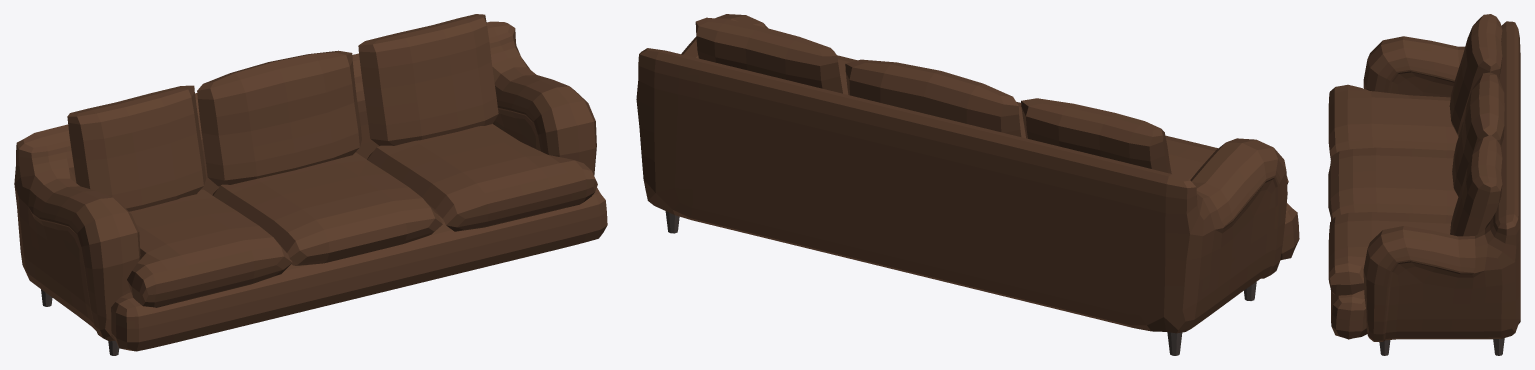
The model's file is Sofa2.glb.
3 renders of one model, left to right at view 1: azimuth 30°, elevation 25°; view 2: azimuth 150°, elevation 25°; view 3: azimuth 270°, elevation 25°, orthographic. The views are drawn at different scales.
Parts seen in each view (by area): view 1: Sofa2; view 2: Sofa2; view 3: Sofa2.
Boxes of the visible parts, <box> form: Sofa2: <box>14,14,607,355</box>; Sofa2: <box>636,14,1299,355</box>; Sofa2: <box>1328,14,1520,355</box>.
Size of the model in its own units: 4 by 1.45 by 1.54.
